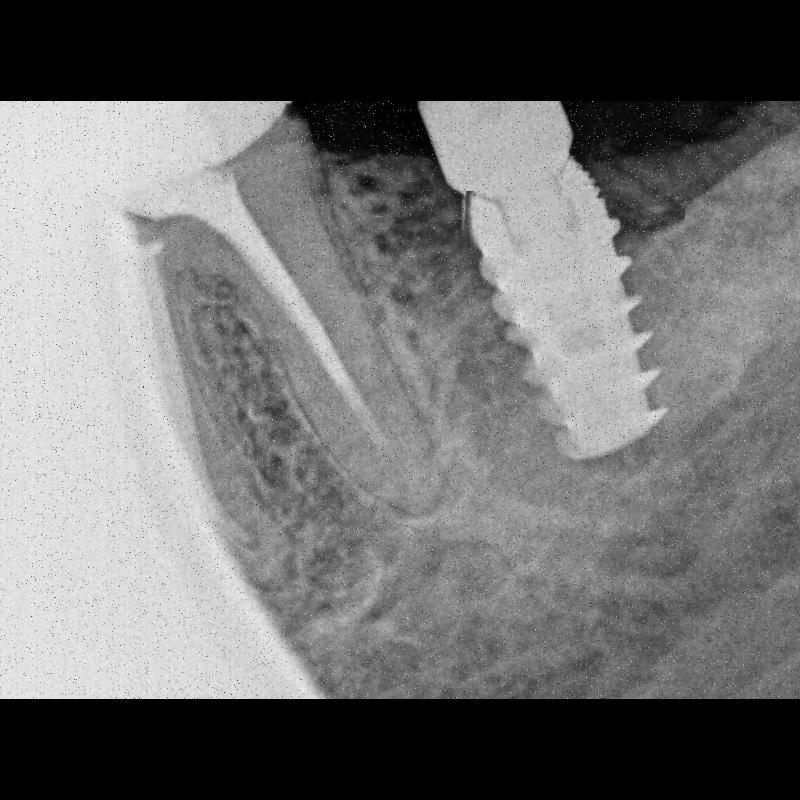NORIS: (456, 194, 682, 472)
